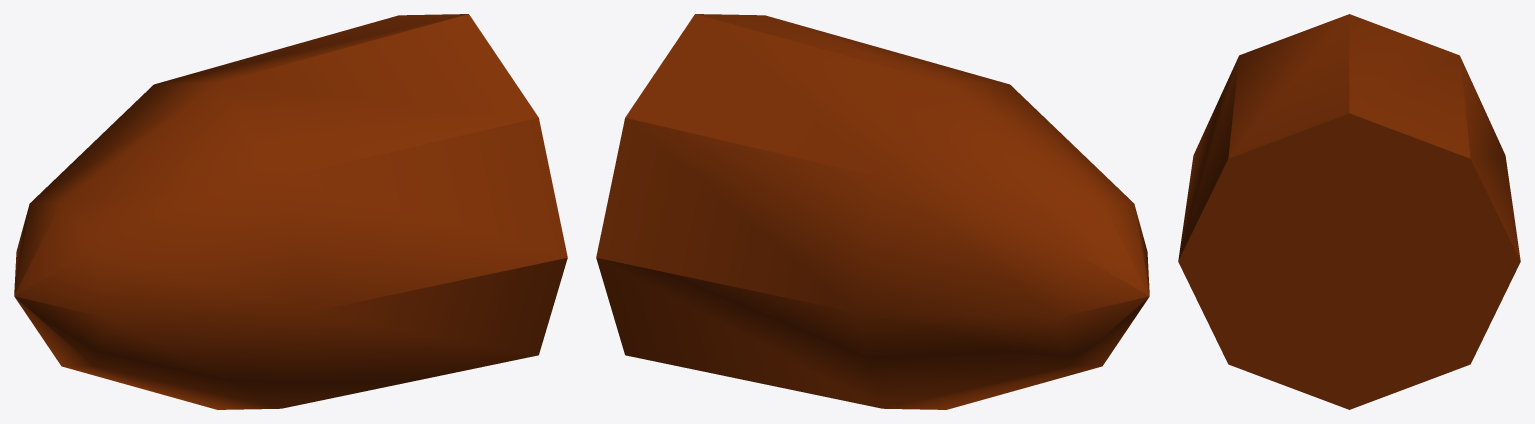
The model's file is carrot_0.obj.
3 renders of one model, left to right at view 1: azimuth 30°, elevation 25°; view 2: azimuth 150°, elevation 25°; view 3: azimuth 270°, elevation 25°, orthographic. The views are drawn at different scales.
Size of the model in its own units: 2.91 by 2.1 by 2.2.
